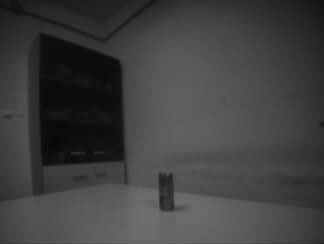Tin can: (158, 171, 175, 212)
